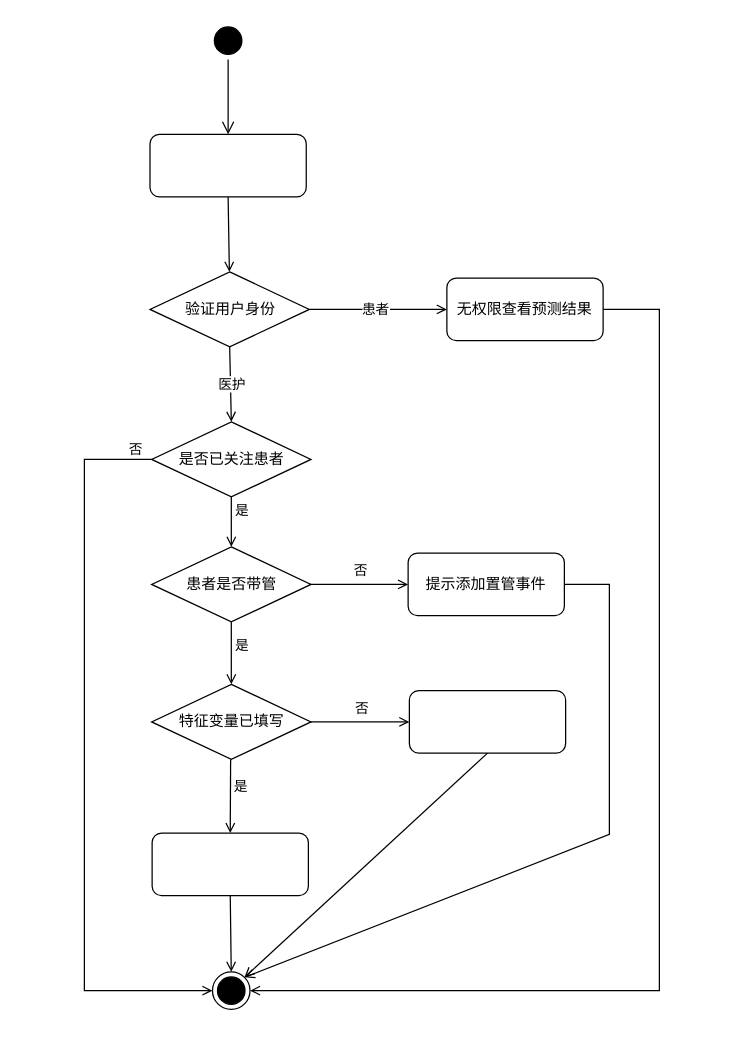
This 730x1044 diagram has some shape labels left out. Here are the shapes that lost their labels. From the top down, the box of each, then its label:
(149, 133, 306, 197): 登录
(408, 689, 566, 753): 提示变量缺失
(151, 832, 308, 896): 返回风险预测界面
